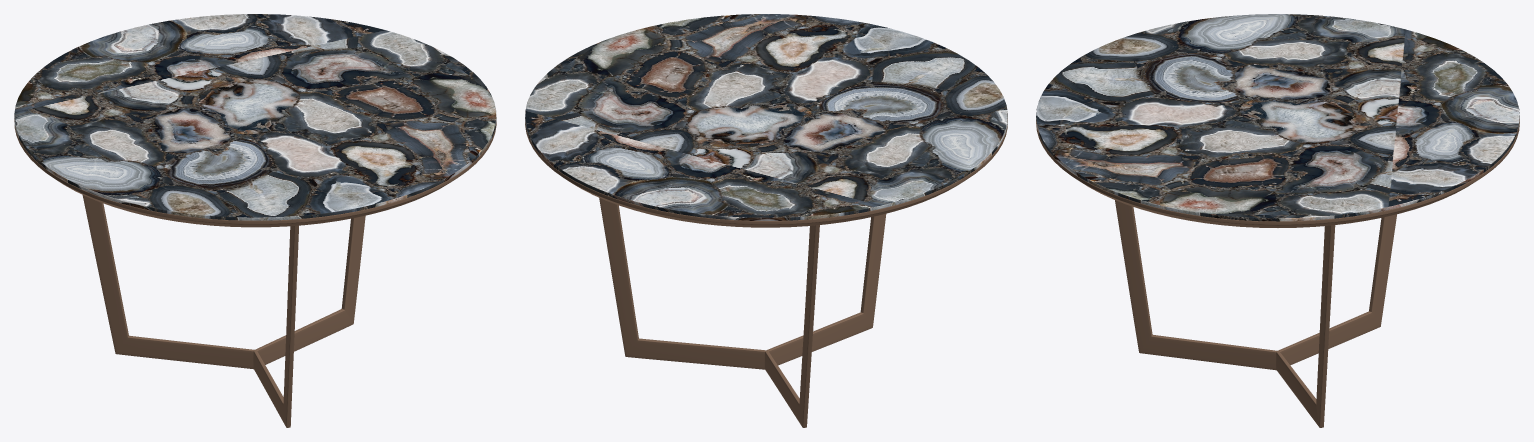
File: SBH_Curiosity_ST.glb
3 views of the same model, side by side, from view 1: azimuth 30°, elevation 25°; view 2: azimuth 150°, elevation 25°; view 3: azimuth 270°, elevation 25° (orthographic).
Parts seen in each view (by area): view 1: Curiosity_ST; view 2: Curiosity_ST; view 3: Curiosity_ST.
Part boxes in pixels (bbox=[...]): Curiosity_ST: bbox=[14, 14, 496, 427]; Curiosity_ST: bbox=[525, 14, 1007, 427]; Curiosity_ST: bbox=[1036, 14, 1519, 427].
Bounding box in the file's own units: 0.7755 × 0.4491 × 0.7756.
2 materials, 1 textured.
